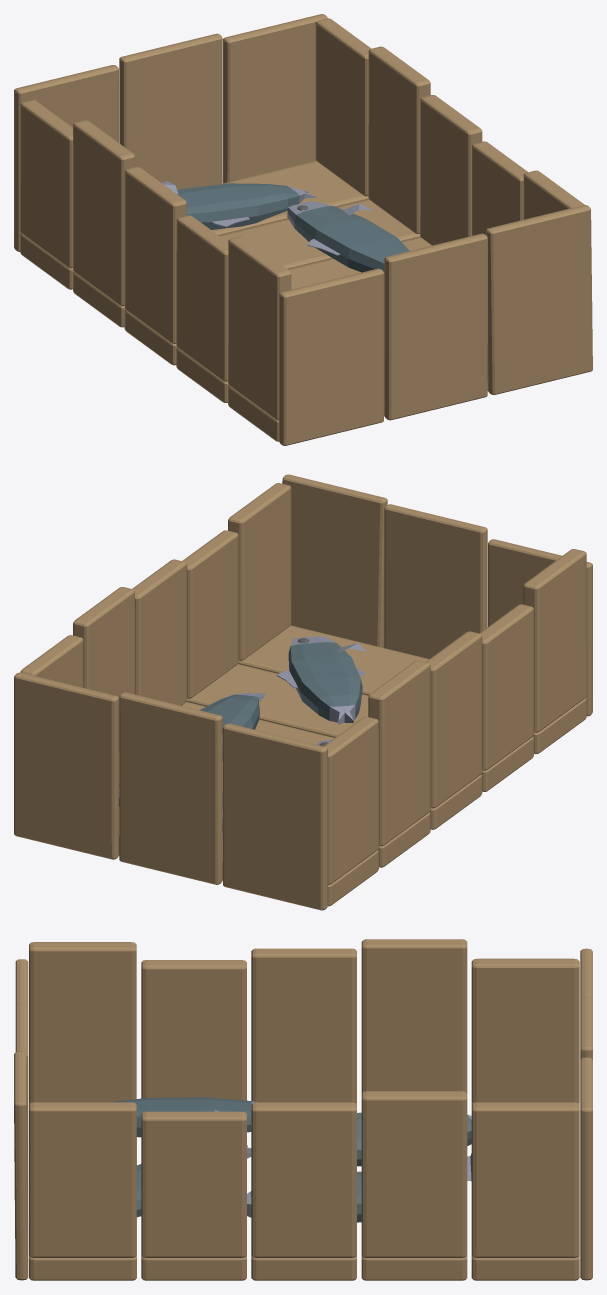
File: BlueFish.fbx
3 renders of one model, top to bottom at view 1: azimuth 30°, elevation 25°; view 2: azimuth 150°, elevation 25°; view 3: azimuth 270°, elevation 25°, orthographic. The views are drawn at different scales.
Parts seen in each view (by area): view 1: Sphere.009; view 2: Sphere.009; view 3: Sphere.009.
Part boxes in pixels (box(x1,y1,x2,y2)): Sphere.009: box(14, 14, 592, 445); Sphere.009: box(14, 474, 592, 910); Sphere.009: box(14, 939, 592, 1280).
Size of the model in its own units: 159 by 84.29 by 241.
